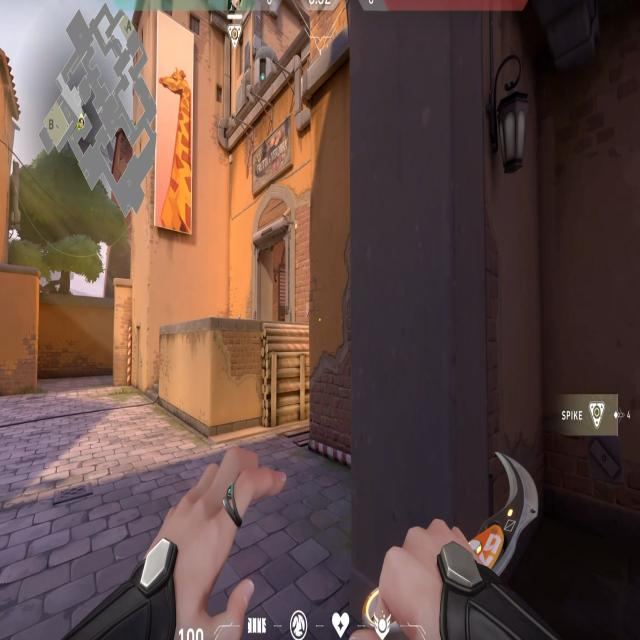B_Cubby: (205, 308, 308, 437)
